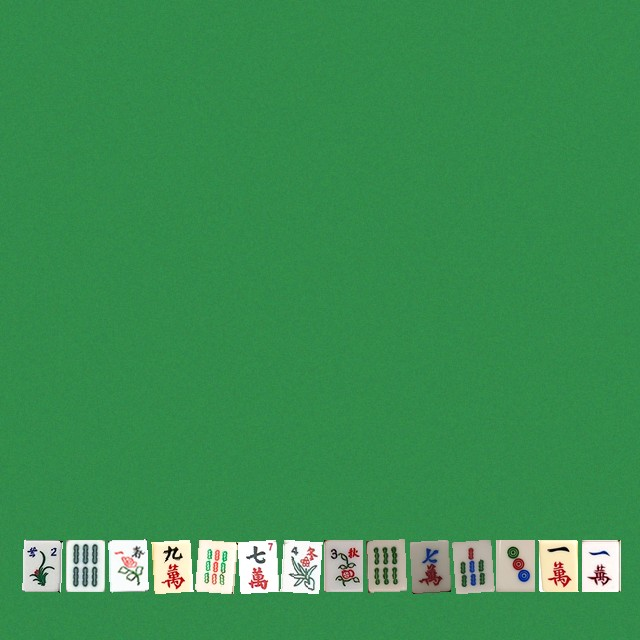tile: (22, 539, 61, 591), (65, 539, 104, 591), (108, 539, 147, 591), (151, 539, 190, 591), (194, 539, 233, 591), (237, 539, 276, 591), (280, 539, 319, 591), (323, 539, 362, 591), (366, 539, 405, 591), (409, 539, 448, 591), (452, 539, 491, 591), (495, 539, 534, 591), (538, 539, 577, 591), (581, 539, 620, 591)
